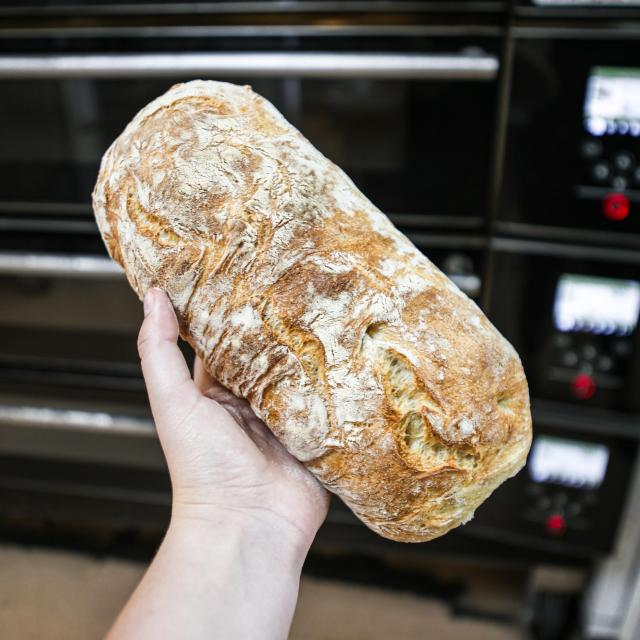Ciabatta: (93, 81, 531, 542)
